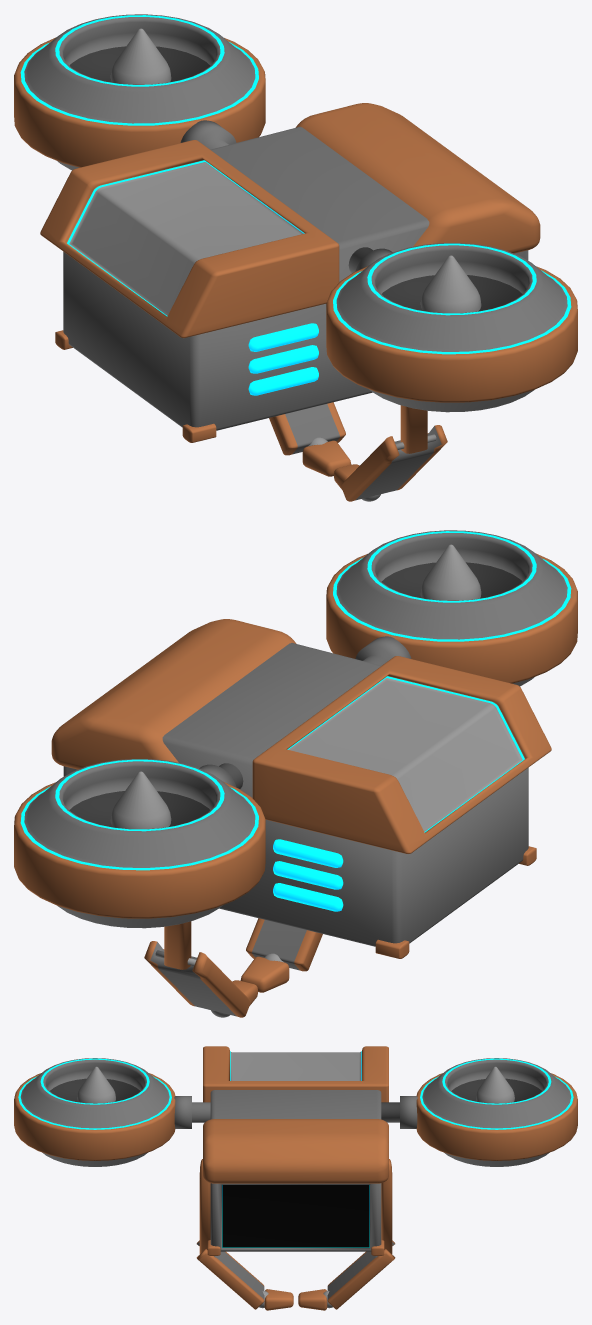
Rendered from Drone.fbx.
3 renders of one model, top to bottom at view 1: azimuth 30°, elevation 25°; view 2: azimuth 150°, elevation 25°; view 3: azimuth 270°, elevation 25°, orthographic. The views are drawn at different scales.
Parts seen in each view (by area): view 1: Motors, WhitePlastic, Main, Cap, Cube.001, Accesories, Cube.006, HandRight, Cube.007, Angles; view 2: Motors, WhitePlastic, Main, Cap, Cube.006, Accesories, Cube.001, HandLeft, Cube.002, Angles; view 3: Motors, Main, Cap, WhitePlastic, Cube.006, Cube.001, HandLeft, HandRight, Cube.007, Cube.002.
Boxes of the visible parts, <box> form: Motors: <box>14,14,577,412</box>; WhitePlastic: <box>40,140,339,338</box>; Main: <box>63,126,528,430</box>; Cap: <box>295,103,540,253</box>; Cube.001: <box>341,425,447,501</box>; Accesories: <box>248,323,318,395</box>; Cube.006: <box>269,402,345,455</box>; HandRight: <box>400,405,427,453</box>; Cube.007: <box>302,440,351,476</box>; Angles: <box>55,330,216,442</box>; Motors: <box>14,530,577,928</box>; WhitePlastic: <box>252,656,551,853</box>; Main: <box>63,643,528,946</box>; Cap: <box>51,619,296,769</box>; Cube.006: <box>144,941,250,1017</box>; Accesories: <box>273,839,343,911</box>; Cube.001: <box>246,918,322,971</box>; HandLeft: <box>164,921,191,969</box>; Cube.002: <box>240,956,289,992</box>; Angles: <box>375,846,536,958</box>; Motors: <box>14,1058,577,1166</box>; Main: <box>210,1090,381,1251</box>; Cap: <box>203,1119,388,1183</box>; WhitePlastic: <box>203,1046,388,1102</box>; Cube.006: <box>327,1240,395,1309</box>; Cube.001: <box>196,1240,264,1309</box>; HandLeft: <box>381,1159,392,1254</box>; HandRight: <box>199,1159,210,1254</box>; Cube.007: <box>298,1289,327,1310</box>; Cube.002: <box>264,1289,293,1310</box>.
Bounding box in the file's own units: 21.55 × 19.85 × 44.97.
